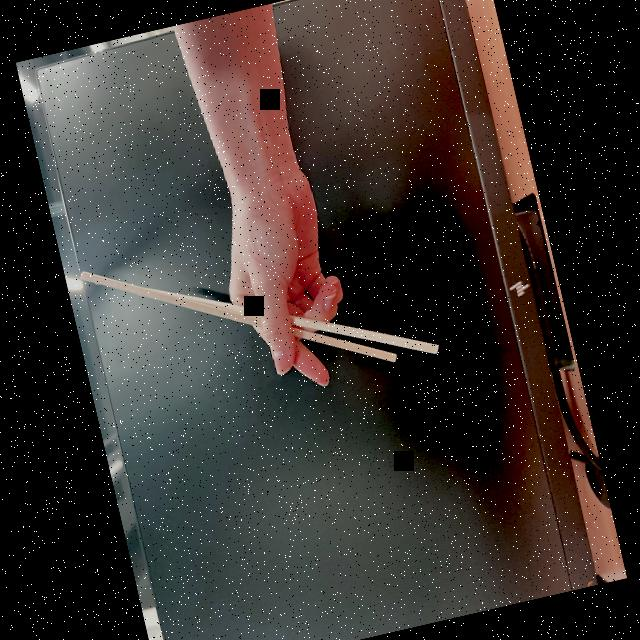stick: (82, 198, 436, 426)
